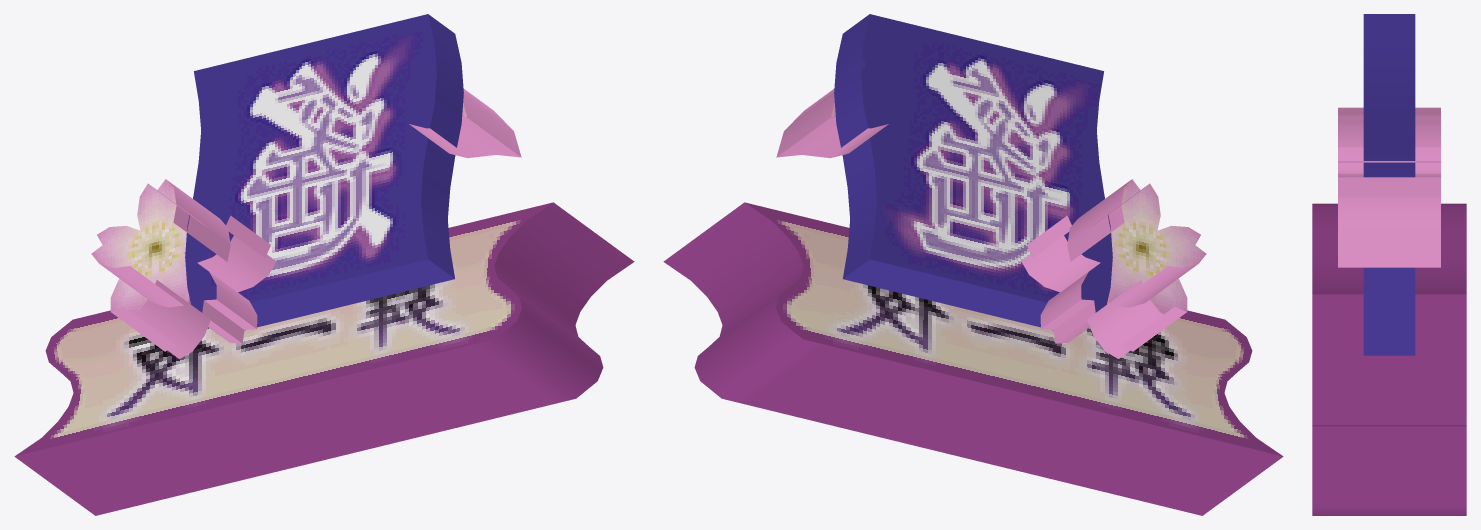
Rendered from ps2_save-icons_harukanarutokinonakademaihitoyo.glb.
The picture shows the model from 3 angles, left to right: view 1: azimuth 30°, elevation 25°; view 2: azimuth 150°, elevation 25°; view 3: azimuth 270°, elevation 25°; orthographic projection. The views are drawn at different scales.
Visible parts, largest first — view 1: HARUKA.ICO; view 2: HARUKA.ICO; view 3: HARUKA.ICO.
Boxes of the visible parts, x1,y1,x2,y2 form: HARUKA.ICO: [14, 14, 634, 515]; HARUKA.ICO: [663, 14, 1283, 515]; HARUKA.ICO: [1312, 14, 1466, 515].
Size of the model in its own units: 4.95 by 3.23 by 1.29.
1 material, 1 textured.
